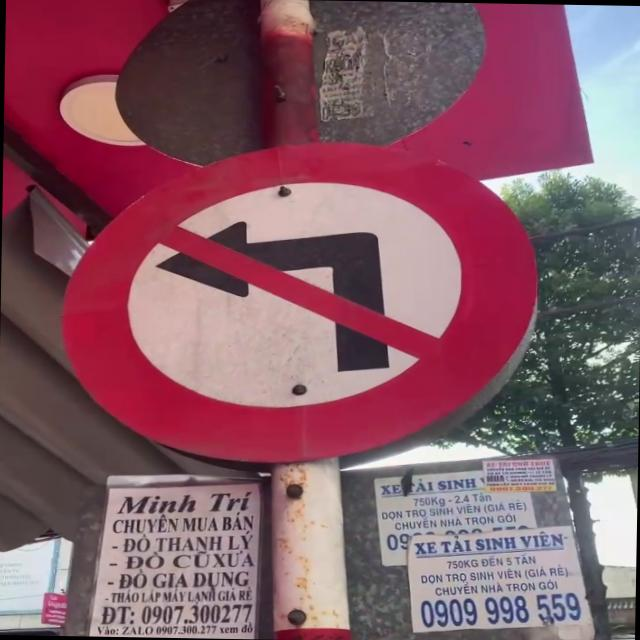Cam_Re_Trai: (56, 132, 542, 464)
